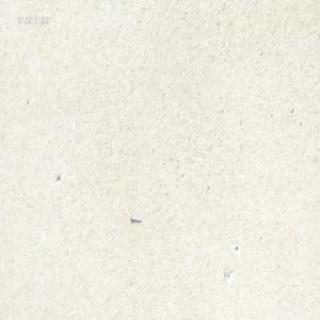Nailtrack_idkeyframe: (127, 216, 143, 228)
